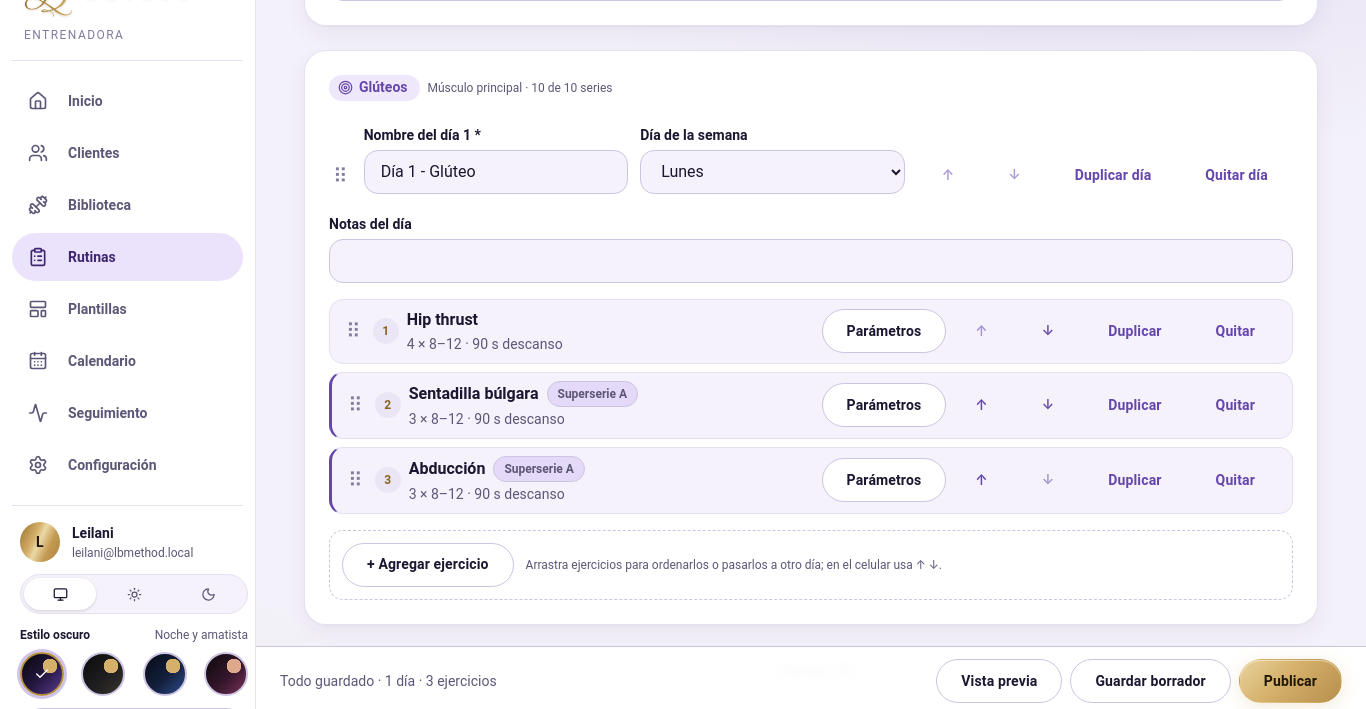
Test: rutinas › el constructor guarda el orden elegido por la entrenadora
(page scrolled)
Click the button named "Bajar Hip thrust" at coordinates (1048, 331), box x1=1017 y1=309 x2=1079 y2=353
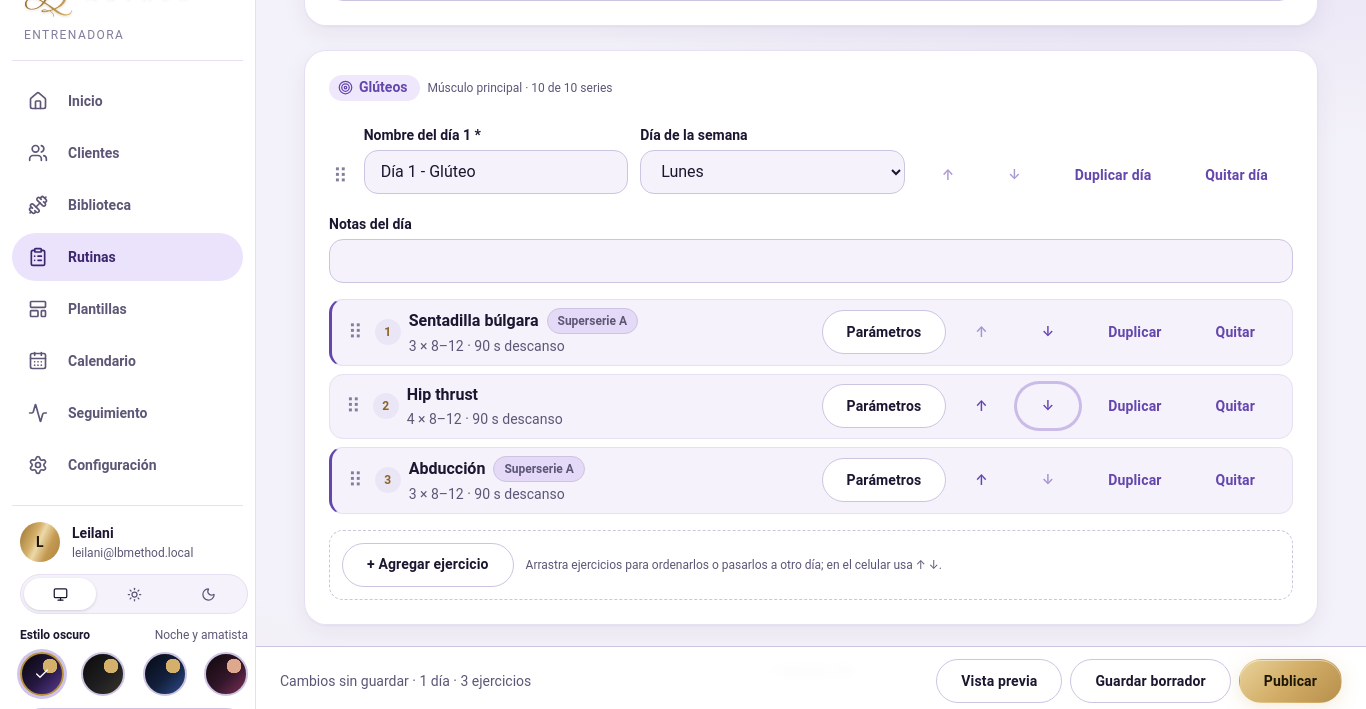
Click the button "Guardar borrador" at coordinates (1151, 681), box x1=1070 y1=659 x2=1231 y2=703
(page scrolled)
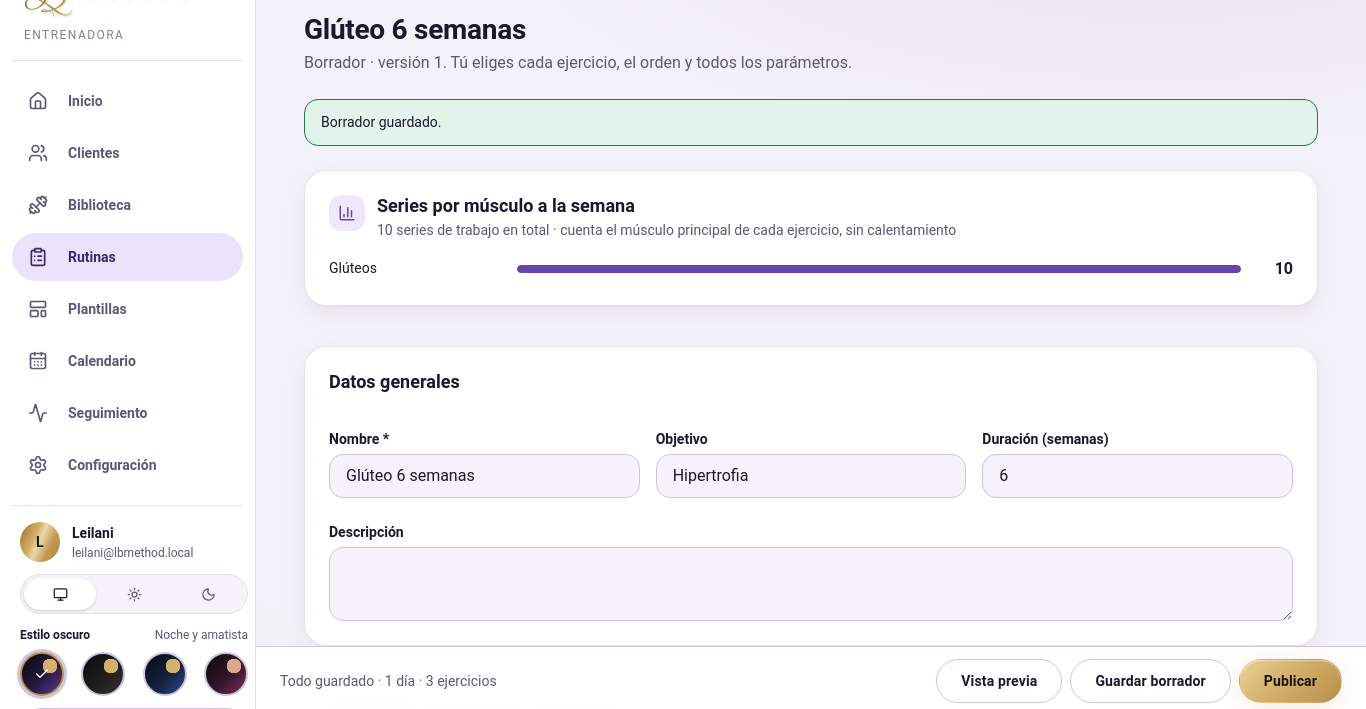
Now the text "Borrador guardado." is shown, box x1=304 y1=99 x2=1318 y2=146
